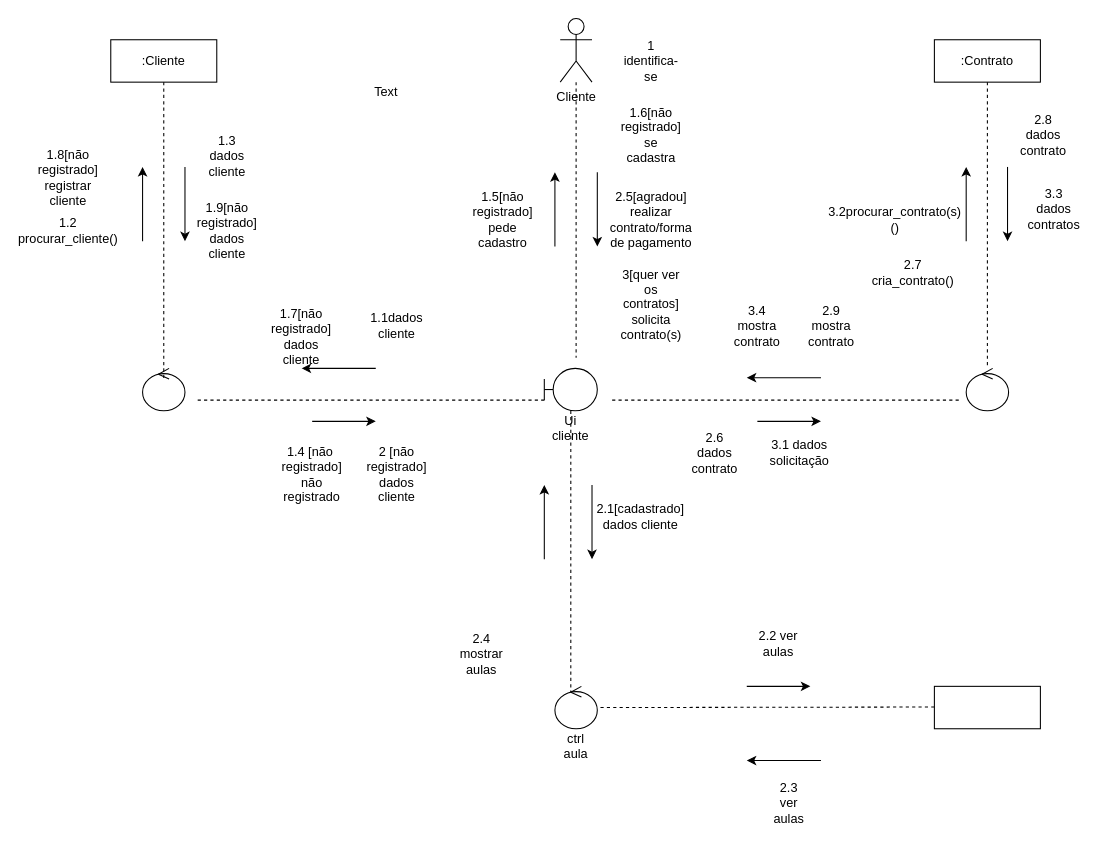
This 1098x844 diagram has some shape labels left out. Each missing label, with the centre of its shape:
":Aula" goes at (x=986, y=707).
"ctrl cliente" goes at (x=163, y=389).
"ctrl contrato" goes at (x=987, y=389).
